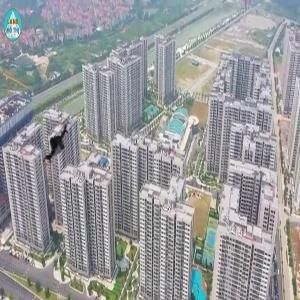drone: (32, 120, 83, 171)
